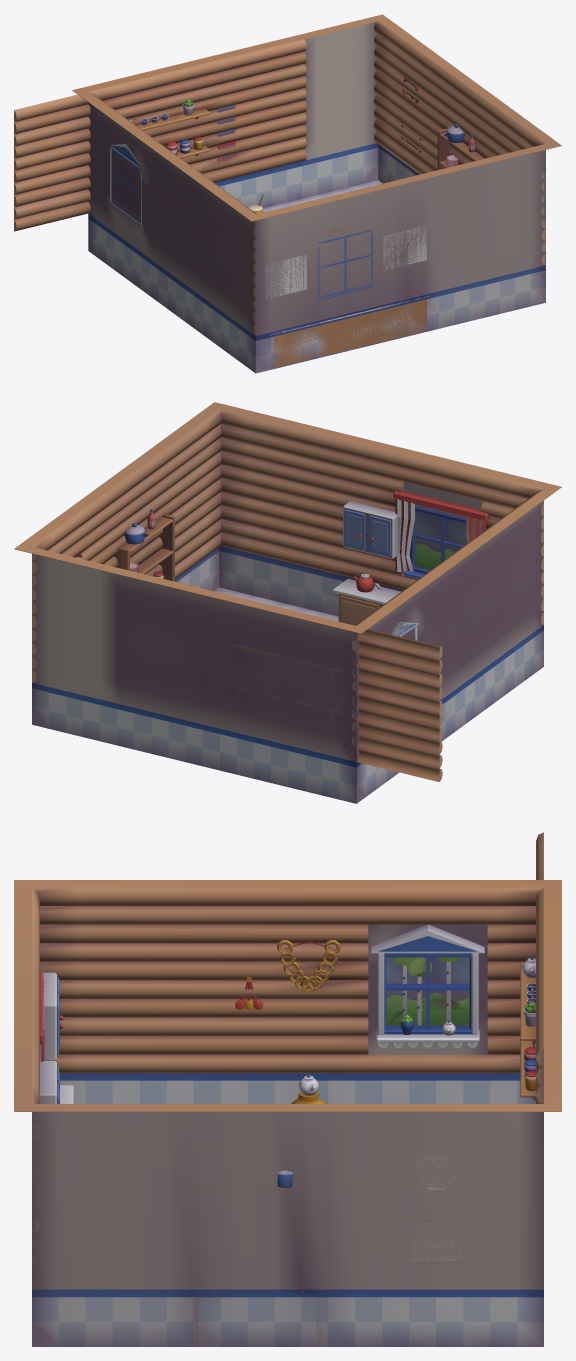
The picture shows the model from 3 angles, top to bottom: view 1: azimuth 30°, elevation 25°; view 2: azimuth 150°, elevation 25°; view 3: azimuth 270°, elevation 25°; orthographic projection. The views are drawn at different scales.
Visible parts, largest first — view 1: room, back, props, table; view 2: room, back, table; view 3: back, room, props.
Part boxes in pixels (box(x1,y1,x2,y2)): room: box(14, 17, 378, 372); back: box(245, 14, 561, 373); props: box(130, 99, 263, 213); table: box(262, 180, 382, 212); room: box(25, 489, 554, 803); back: box(14, 402, 561, 682); table: box(214, 587, 338, 621); back: box(14, 880, 561, 1346); room: box(32, 832, 561, 1103); props: box(235, 940, 535, 1103).
Size of the model in its own units: 11.1 by 4.5 by 9.2.
